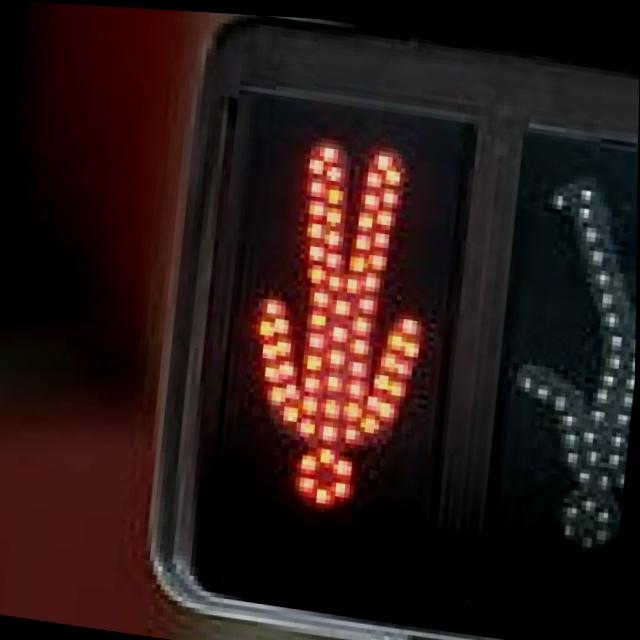red_light: (200, 98, 463, 581)
